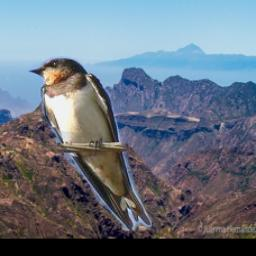Swallow: (28, 56, 153, 230)
